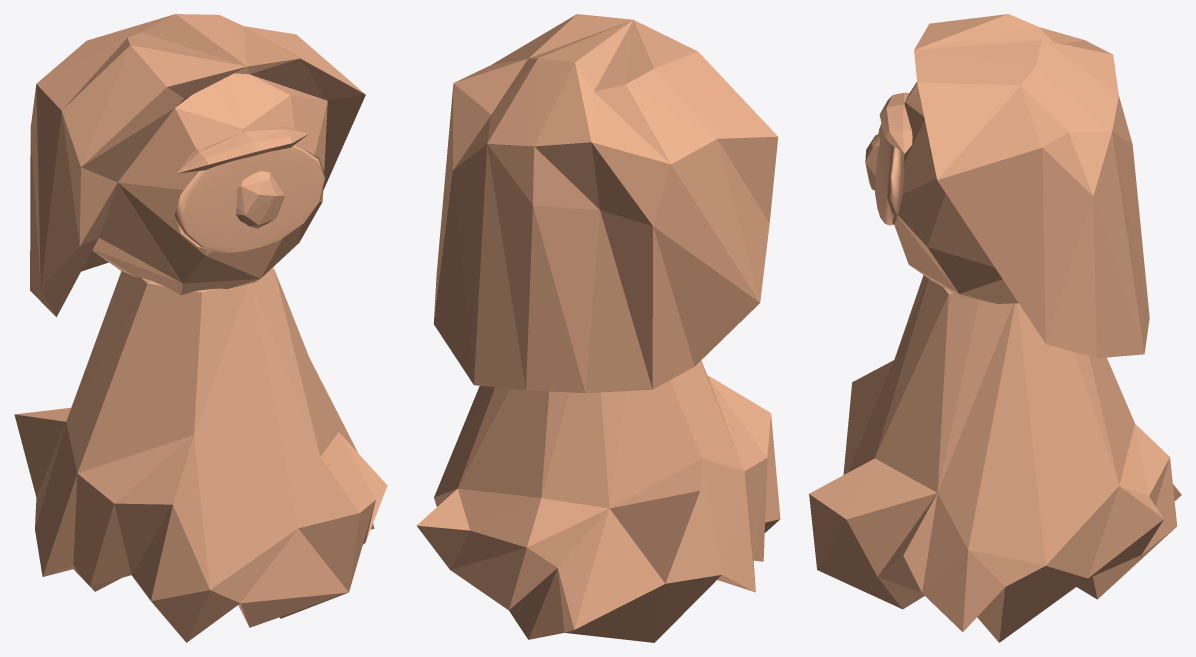
The model's file is demovalmis.FBX.
3 renders of one model, left to right at view 1: azimuth 30°, elevation 25°; view 2: azimuth 150°, elevation 25°; view 3: azimuth 270°, elevation 25°, orthographic.
Parts seen in each view (by area): view 1: Sphere003; view 2: Sphere003; view 3: Sphere003.
Boxes of the visible parts, box(x1,y1,x2,y2) form: Sphere003: box(14, 14, 387, 642); Sphere003: box(416, 14, 780, 642); Sphere003: box(809, 14, 1181, 642).
Bounding box in the file's own units: 18.58 × 31.86 × 19.15.
